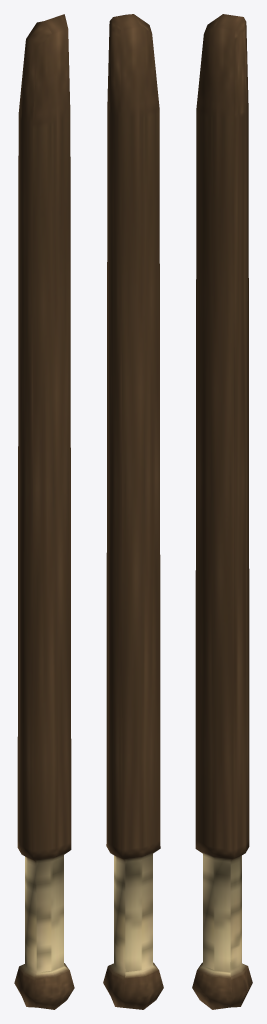
File: WoodStick.fbx
The picture shows the model from 3 angles, left to right: view 1: azimuth 30°, elevation 25°; view 2: azimuth 210°, elevation 25°; view 3: azimuth 330°, elevation 25°; orthographic projection.
Visible parts, largest first — view 1: pasted__Sword_geo; view 2: pasted__Sword_geo; view 3: pasted__Sword_geo.
Boxes of the visible parts, box(x1,y1,x2,y2) form: pasted__Sword_geo: box(14, 14, 74, 1009); pasted__Sword_geo: box(103, 14, 163, 1009); pasted__Sword_geo: box(192, 14, 252, 1009).
Bounding box in the file's own units: 3.04 × 58.96 × 2.93.
